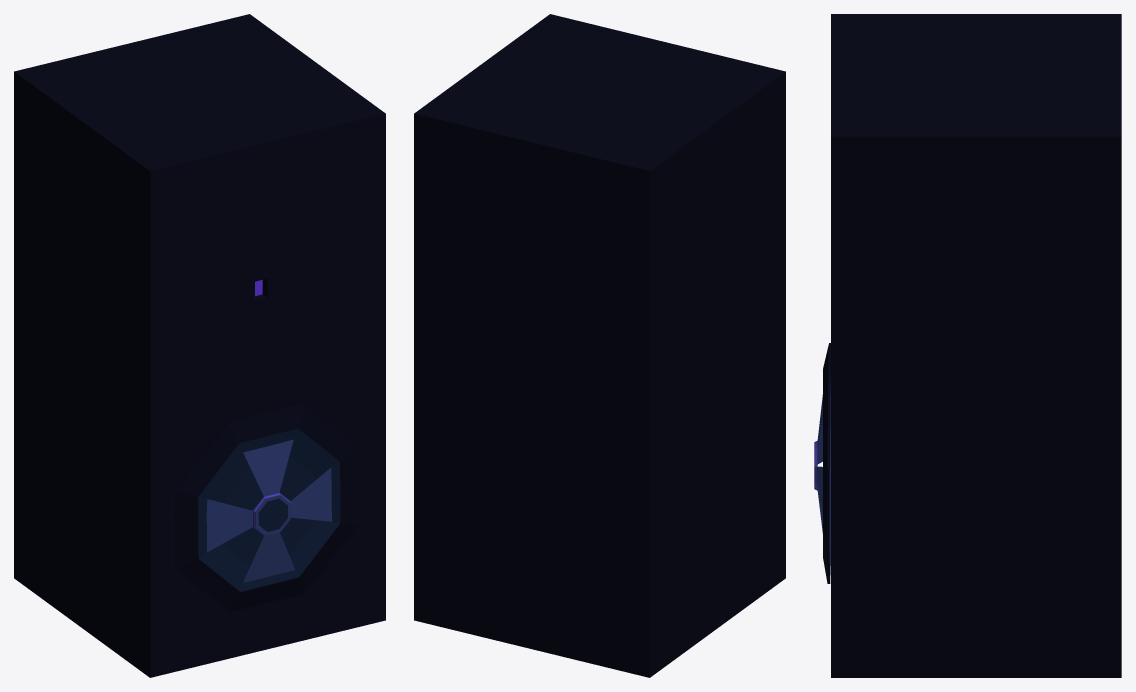
The model's file is RivenRoom_Speakers_Bass.fbx.
3 views of the same model, side by side, from view 1: azimuth 30°, elevation 25°; view 2: azimuth 150°, elevation 25°; view 3: azimuth 270°, elevation 25° (orthographic). The views are drawn at different scales.
Parts seen in each view (by area): view 1: Cube.164; view 2: Cube.164; view 3: Cube.164.
Boxes of the visible parts, x1=… form: Cube.164: x1=14, y1=14, x2=385, y2=677; Cube.164: x1=414, y1=14, x2=785, y2=677; Cube.164: x1=814, y1=14, x2=1121, y2=677.
Size of the model in its own units: 28.83 by 59.23 by 30.48.
